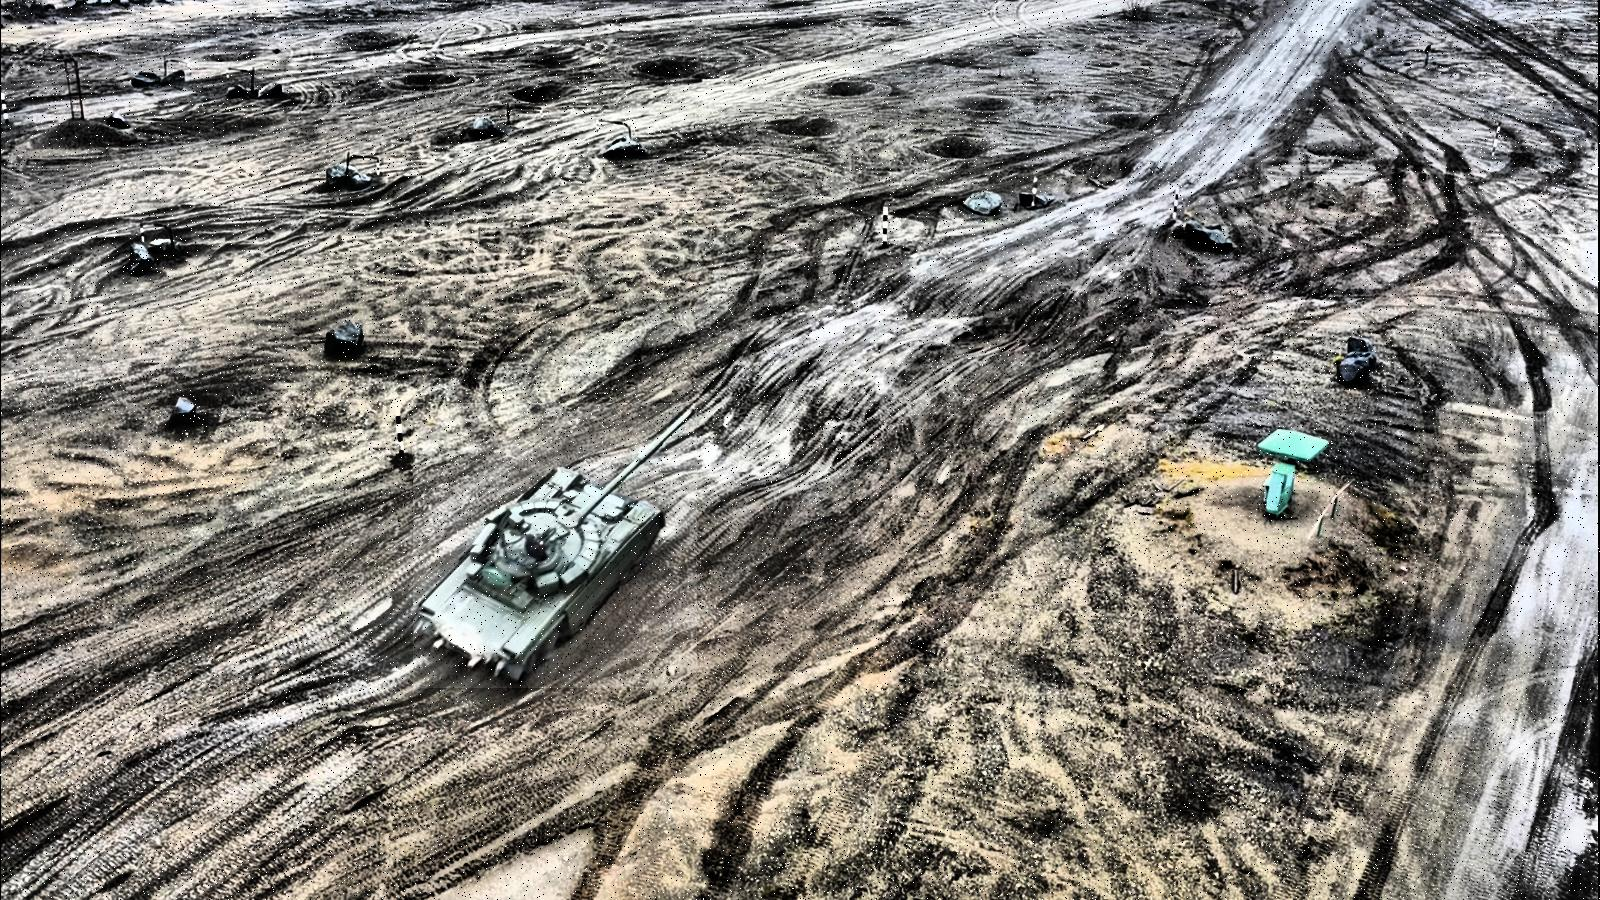military-vehicle: (413, 404, 697, 689)
